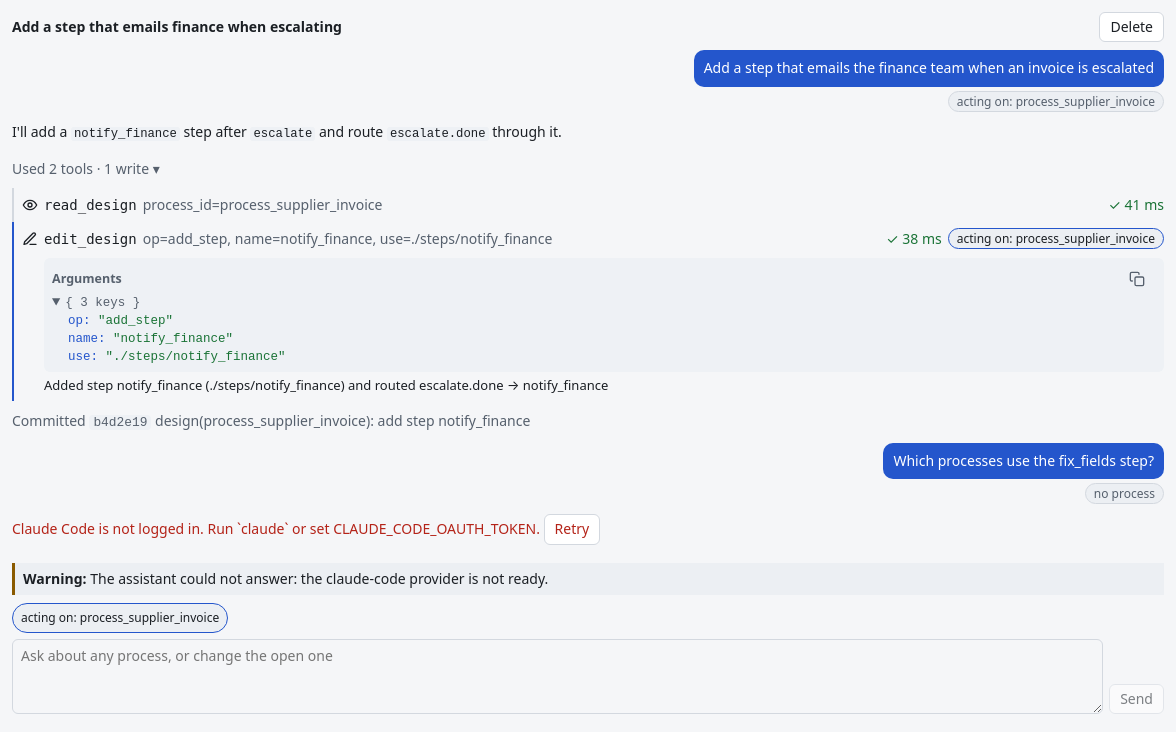
Test: ChatView header › Escape cancels a rename
The width and height of the screenshot is (1176, 732).
Expected: the text "Add a step that emails the finance team when an invoice is escalated" is shown, [694,50,1164,87]
Click the button "Add a step that emails finance when escalating" at (177, 26), box [12,12,1091,42]
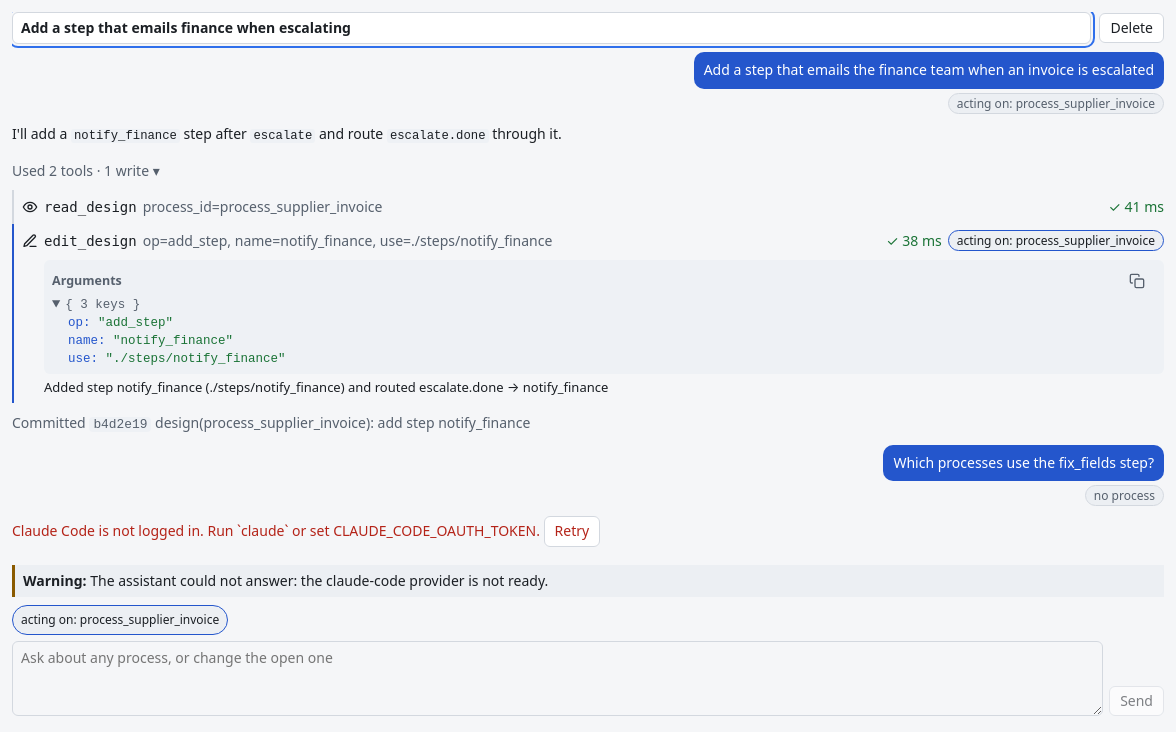
Press Escape in the field named "Chat title", box [12,12,1091,44]
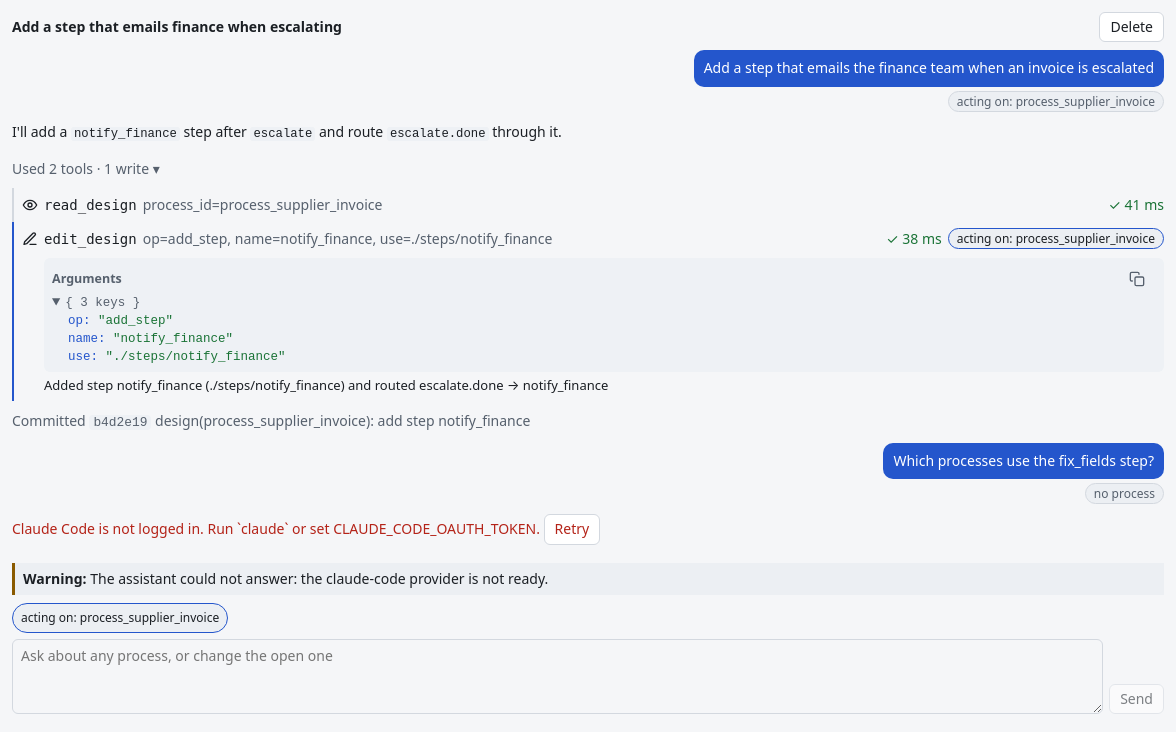
Now the button "Add a step that emails finance when escalating" is shown, box [12,12,1091,42]
